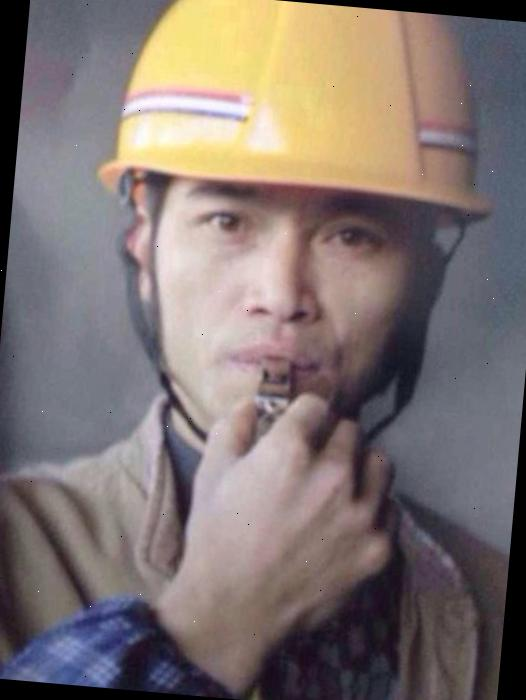helmet: (82, 0, 515, 266)
